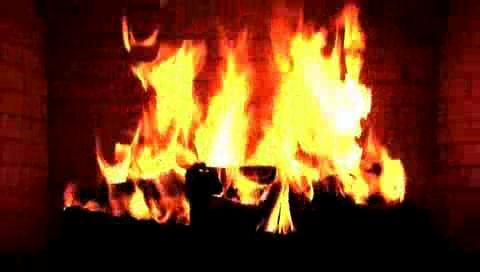fire: (96, 4, 410, 235)
